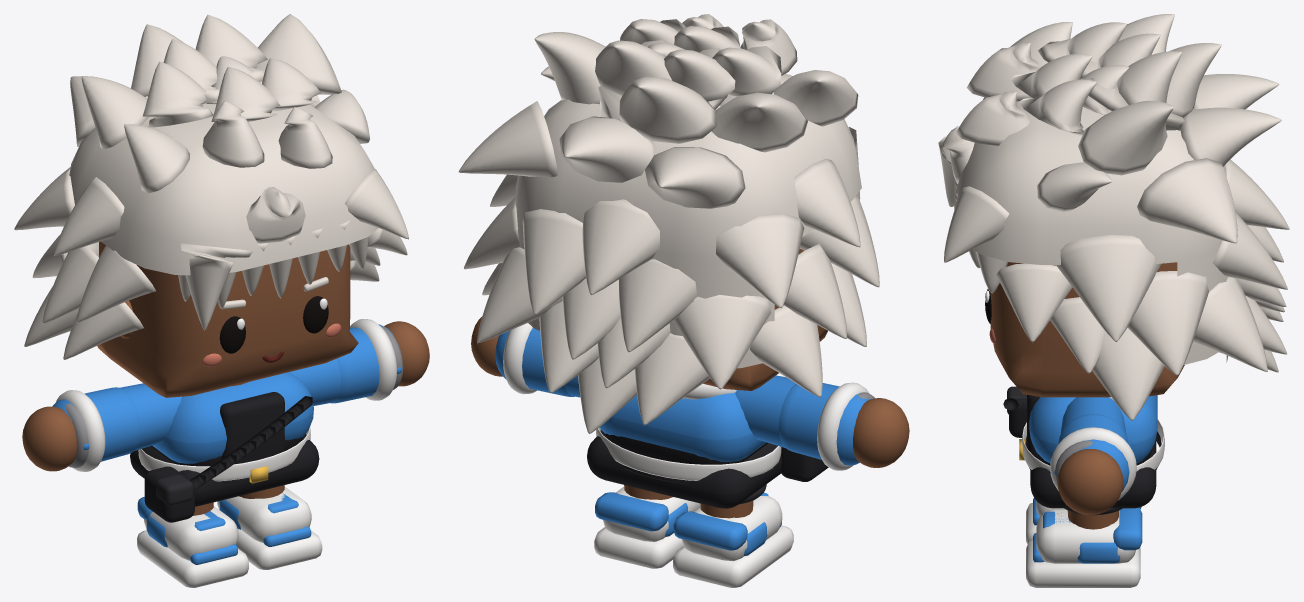
The model's file is sol_chibi_v02.glb.
The picture shows the model from 3 angles, left to right: view 1: azimuth 30°, elevation 25°; view 2: azimuth 150°, elevation 25°; view 3: azimuth 270°, elevation 25°; orthographic projection. The views are drawn at different scales.
Visible parts, largest first — view 1: Hair_Tufts, Hair_Cap, Head, Jacket, Shoe_R, Arm_R, Shoe_L, Arm_L, Hand_R, CropTop, Shorts, Hair_Bangs (+4 smaller); view 2: Hair_Tufts, Hair_Cap, Jacket, Arm_R, Shoe_R, Shoe_L, Shorts, Hand_R, Arm_L, Torso, Head, Bag (+2 smaller); view 3: Hair_Tufts, Hair_Cap, Shoe_L, Head, Jacket, Arm_L, Hand_L, Shorts, Hair_Bangs, Bag, Leg_L, Shoe_R.
Part boxes in pixels (x1,y1,x2,y2): Hair_Tufts: (14,14,408,359); Hair_Cap: (63,103,378,275); Head: (97,241,358,397); Jacket: (138,372,313,481); Shoe_R: (137,497,248,587); Arm_R: (52,383,181,471); Shoe_L: (217,486,322,569); Arm_L: (290,319,396,405); Hand_R: (22,403,89,471); CropTop: (220,392,284,464); Shorts: (130,436,319,506); Hair_Bangs: (178,220,368,308); Hair_Tufts: (458,14,879,433); Hair_Cap: (515,73,861,368); Jacket: (596,392,781,480); Arm_R: (735,375,869,470); Shoe_R: (673,492,793,587); Shoe_L: (594,486,700,568); Shorts: (587,432,782,508); Hand_R: (853,392,909,467); Arm_L: (495,323,580,397); Torso: (603,432,767,464); Head: (703,249,827,390); Bag: (781,447,828,481); Hair_Tufts: (938,14,1289,420); Hair_Cap: (954,97,1228,364); Shoe_L: (1026,507,1142,587); Head: (990,262,1184,397); Jacket: (1022,395,1164,471); Arm_L: (1050,397,1136,500); Hand_L: (1054,440,1123,515); Shorts: (1030,439,1156,515); Hair_Bangs: (954,179,1008,293); Bag: (1007,386,1026,437); Leg_L: (1067,510,1118,529); Shoe_R: (1026,498,1141,544).
Bounding box in the file's own units: 0.644 × 0.7736 × 0.4755.
